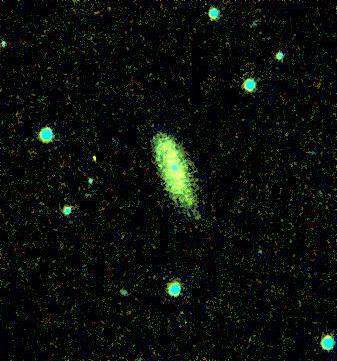star: (75, 142, 105, 172)
